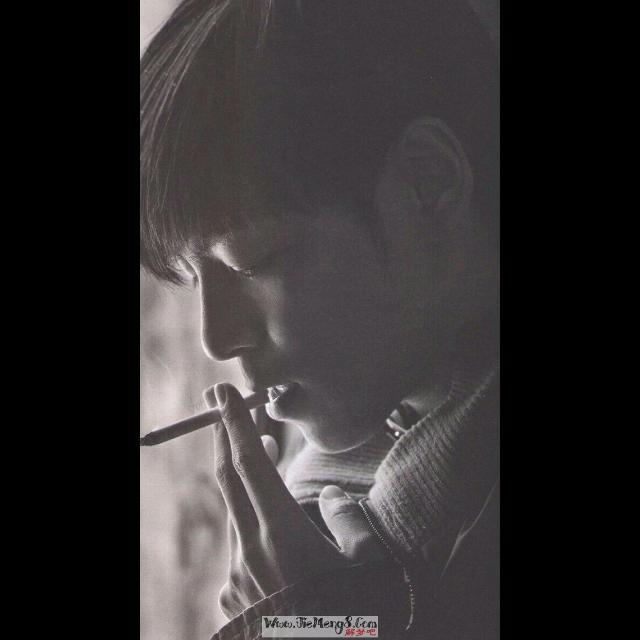rokok: (140, 382, 276, 456)
